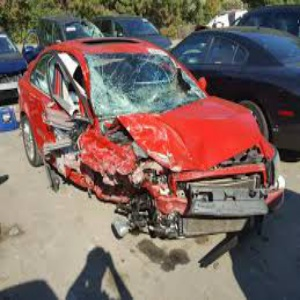bonnet: (119, 109, 262, 168)
bumper: (115, 174, 290, 241)
front_windshield_glass: (86, 53, 195, 105)
